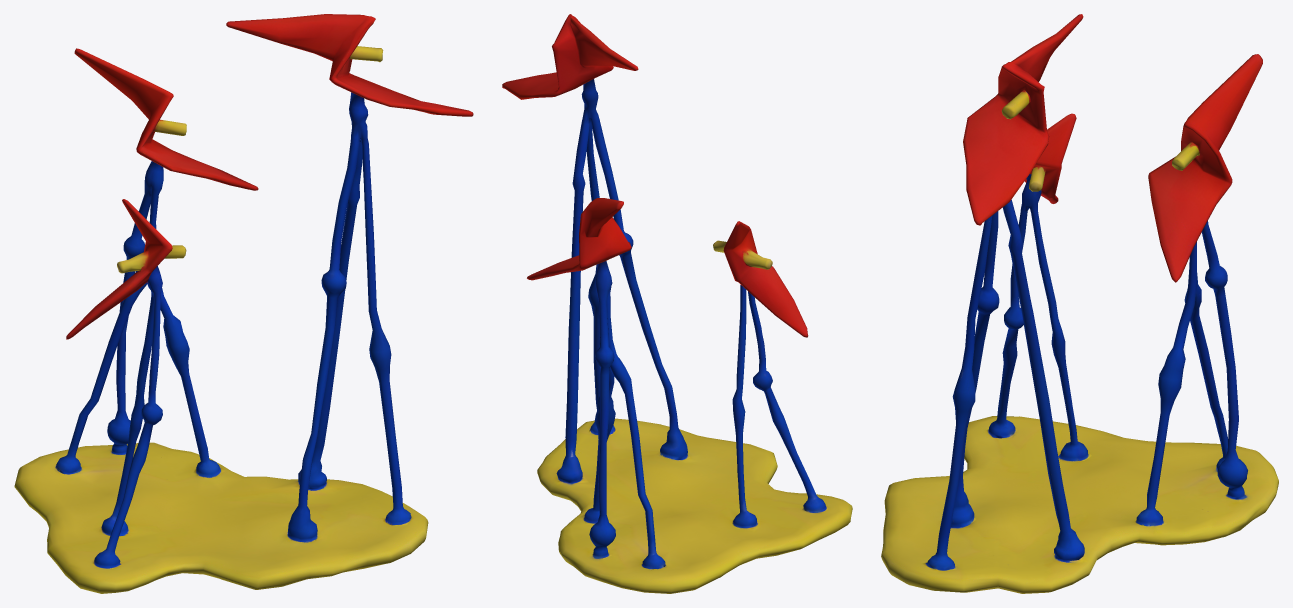
The model's file is de301104-669d-4f30-8888-33decf00c91f.glb.
3 renders of one model, left to right at view 1: azimuth 30°, elevation 25°; view 2: azimuth 150°, elevation 25°; view 3: azimuth 270°, elevation 25°, orthographic. The views are drawn at different scales.
Visible parts, largest first — view 1: tripo_node_176fdf66-87b8-4301-909c-95d433f9c2b0; view 2: tripo_node_176fdf66-87b8-4301-909c-95d433f9c2b0; view 3: tripo_node_176fdf66-87b8-4301-909c-95d433f9c2b0.
Boxes of the visible parts, box(x1,y1,x2,y2) form: tripo_node_176fdf66-87b8-4301-909c-95d433f9c2b0: box(14, 14, 473, 593); tripo_node_176fdf66-87b8-4301-909c-95d433f9c2b0: box(502, 14, 852, 593); tripo_node_176fdf66-87b8-4301-909c-95d433f9c2b0: box(881, 14, 1278, 593).
Bounding box in the file's own units: 0.8141 × 1 × 0.6849.
Materials: 1 (1 with a texture image).
